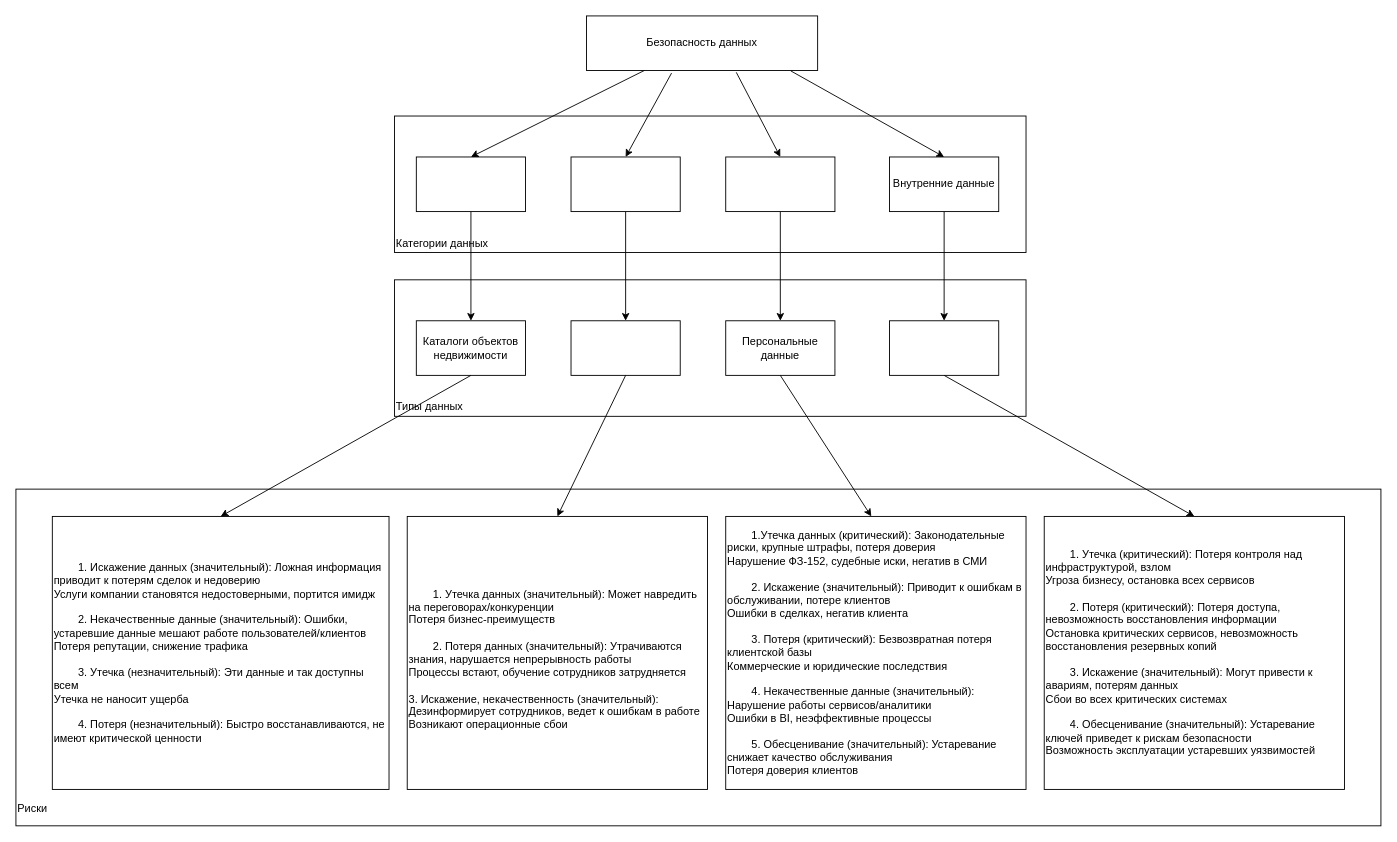
This 1397x842 diagram has some shape labels left out. The centre of each missing label's shape, as x and y in pixels:
"Внутренняя документация" belongs at (x=625, y=347).
"Ключи, пароли" belongs at (x=944, y=347).
"Конфиденциальные данные" belongs at (x=625, y=184).
"Публичные данные" belongs at (x=780, y=184).
"Секретные данные" belongs at (x=470, y=184).
